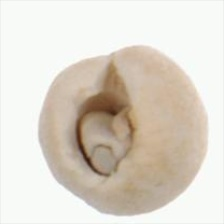L3: (72, 74, 135, 178)
L4: (37, 45, 209, 217)
